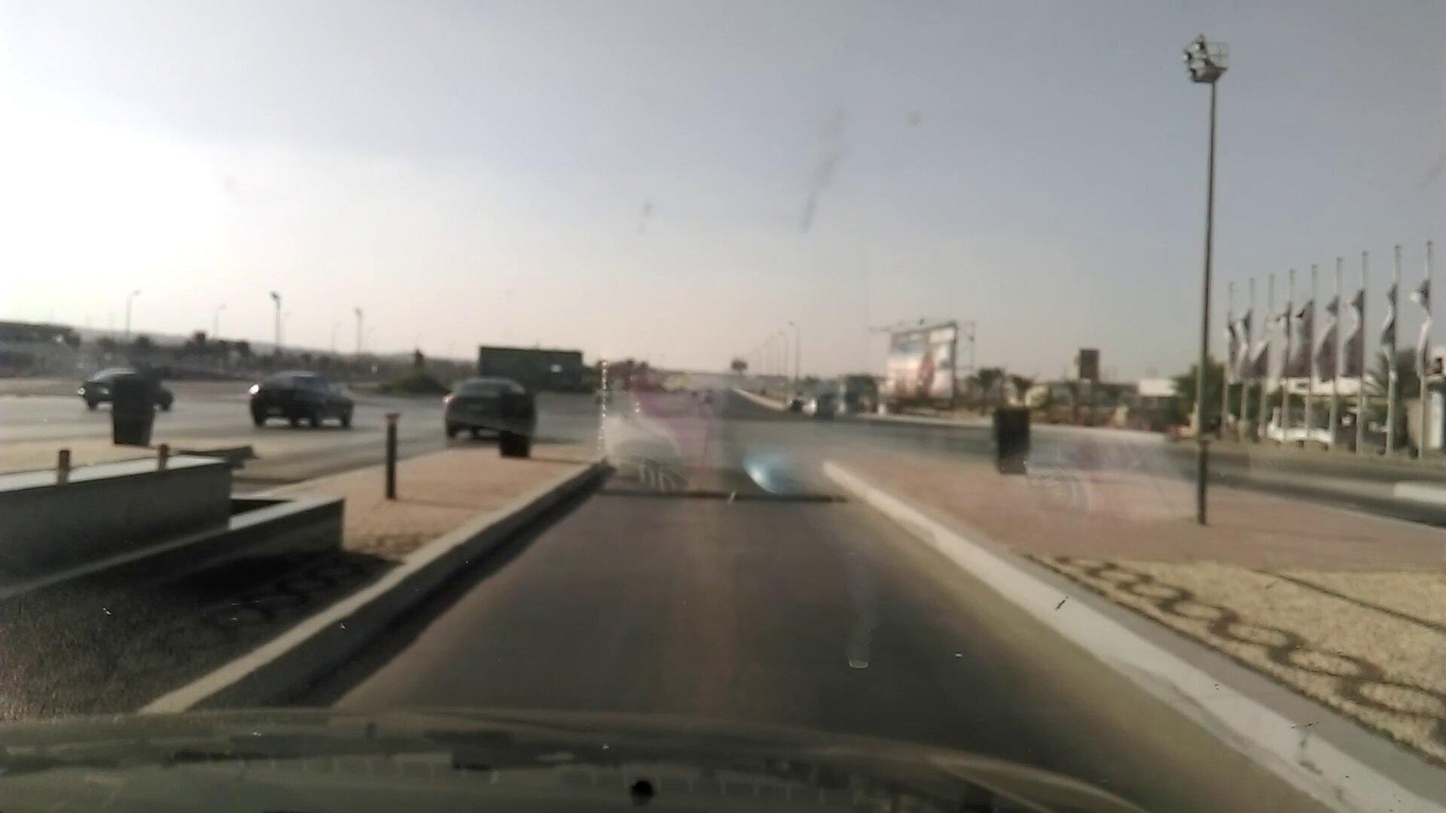Bump: (587, 482, 853, 506)
